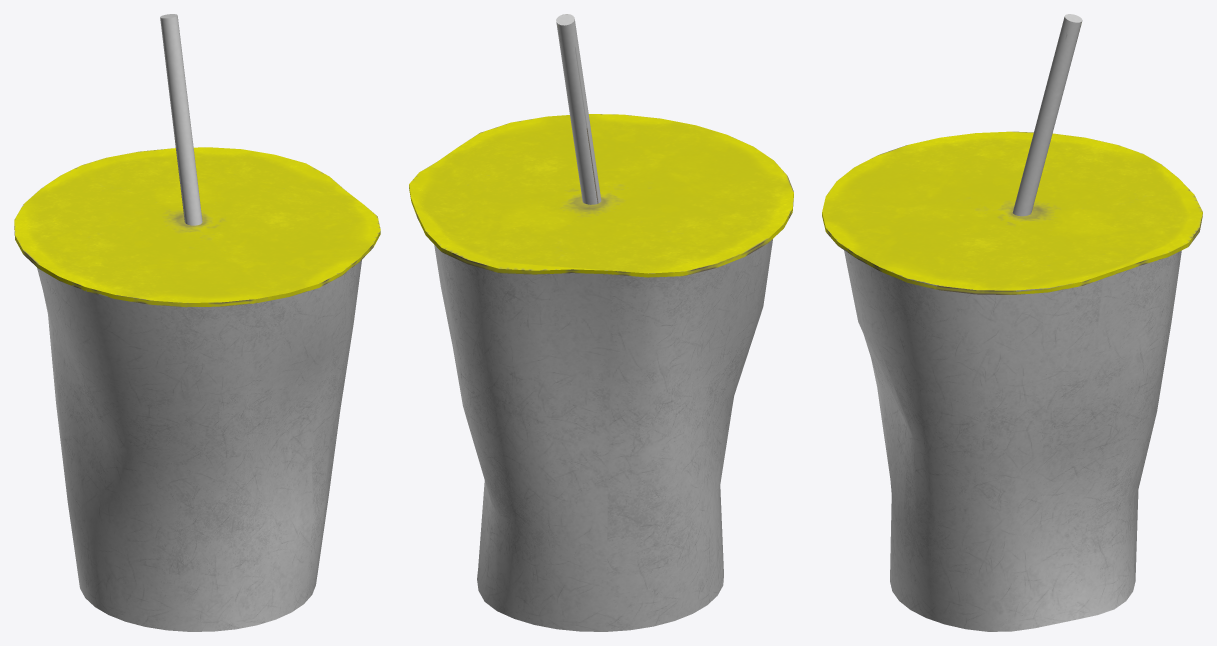
The model's file is 쓰래기_컵.fbx.
3 renders of one model, left to right at view 1: azimuth 30°, elevation 25°; view 2: azimuth 150°, elevation 25°; view 3: azimuth 270°, elevation 25°, orthographic. The views are drawn at different scales.
Parts seen in each view (by area): view 1: 쓰래기_컵; view 2: 쓰래기_컵; view 3: 쓰래기_컵.
Part boxes in pixels (x1=…): 쓰래기_컵: x1=14, y1=14, x2=380, y2=631; 쓰래기_컵: x1=409, y1=14, x2=793, y2=631; 쓰래기_컵: x1=822, y1=14, x2=1202, y2=631.
Size of the model in its own units: 7.68 by 12.96 by 7.91.
